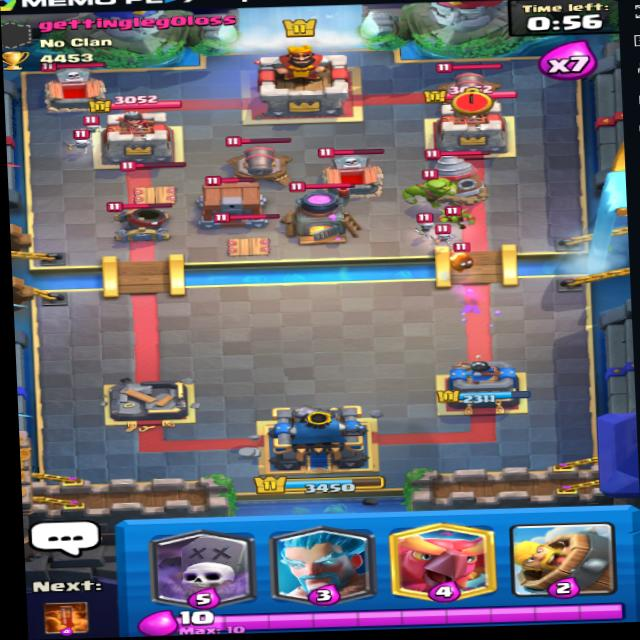brawler: (402, 168, 468, 210)
cannon: (218, 130, 307, 191), (430, 58, 506, 114)
fire-spirit: (445, 248, 477, 277)
furnace: (276, 178, 372, 244)
goblin: (439, 204, 475, 231)
goblin-cage: (181, 172, 277, 232)
goblin-drill: (421, 146, 489, 204)
mortar: (101, 194, 176, 248)
skeleton: (431, 221, 460, 246), (411, 210, 441, 234), (68, 135, 96, 157), (76, 121, 107, 137)
tesla-closed: (117, 151, 188, 209), (213, 209, 287, 258)
tombstone: (41, 61, 121, 114), (316, 142, 391, 194)
